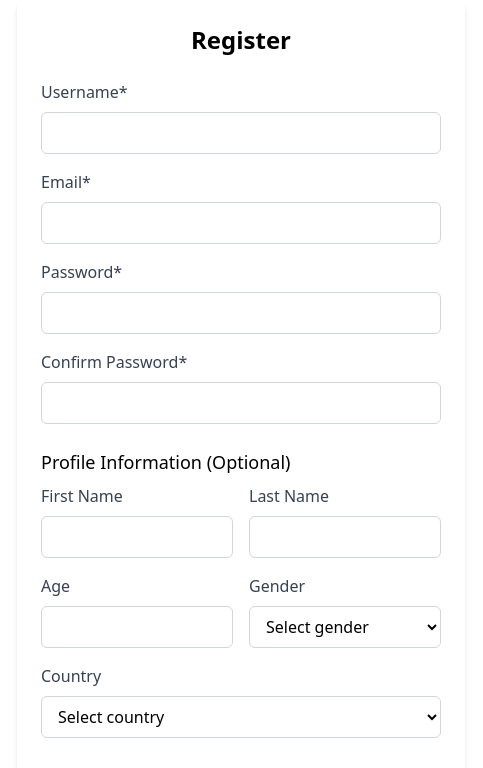
RegisterForm › shows validation error when passwords do not match
Note: Fill in the form with mismatched passwords
Type "testuser" into the field labelled "Username*".
click(241, 133); type("testuser")  # box [41,112,441,154]
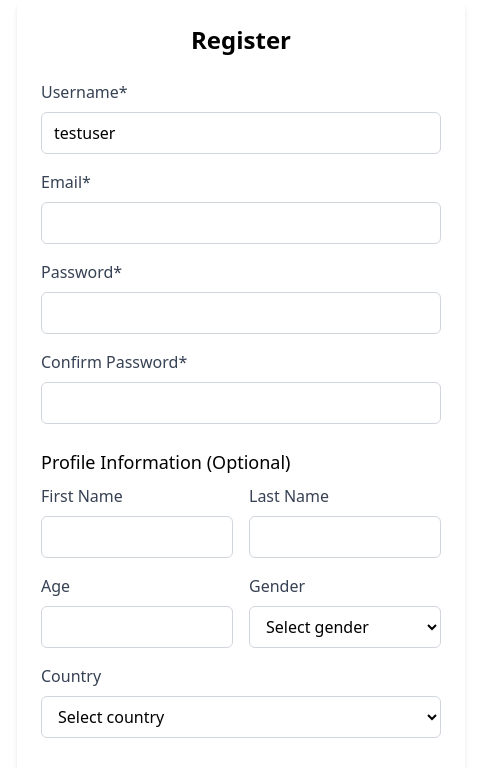
Type "test@example.com" into the field labelled "Email*".
click(241, 223); type("test@example.com")  # box [41,202,441,244]
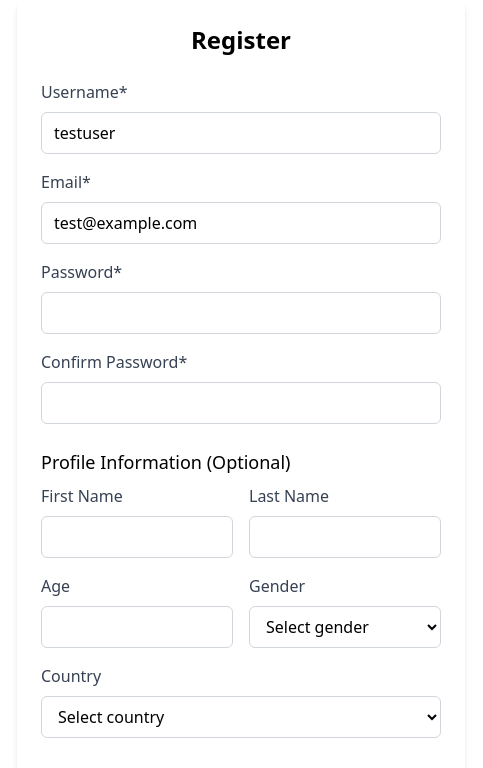
Type "password123" into the password field labelled "Password*".
click(241, 313); type("password123")  # box [41,292,441,334]
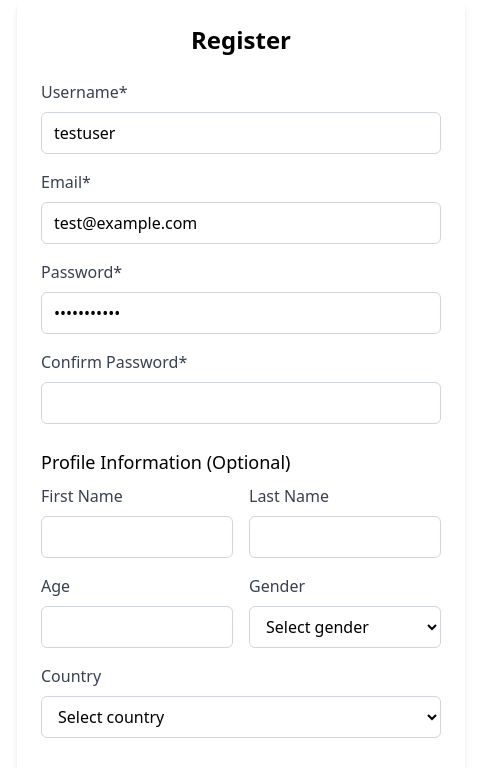
Type "password456" into the password field labelled "Confirm Password*".
click(241, 403); type("password456")  # box [41,382,441,424]
(page scrolled)
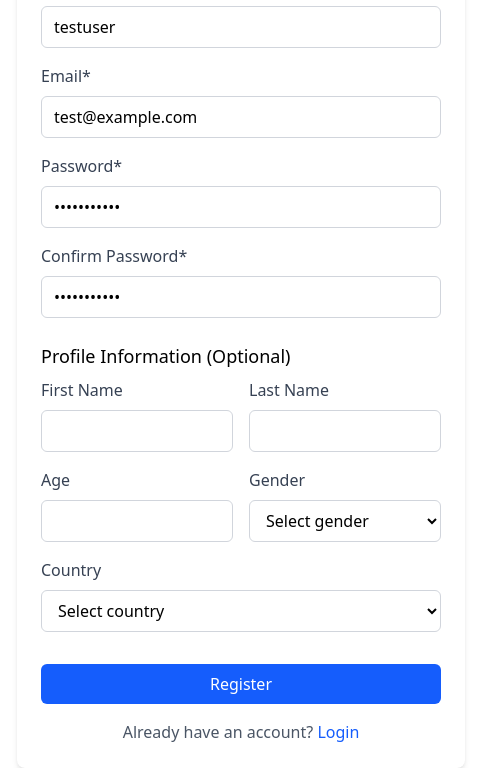
Note: Submit the form
Click the button "Register".
click(241, 684)  # box [41,664,441,704]
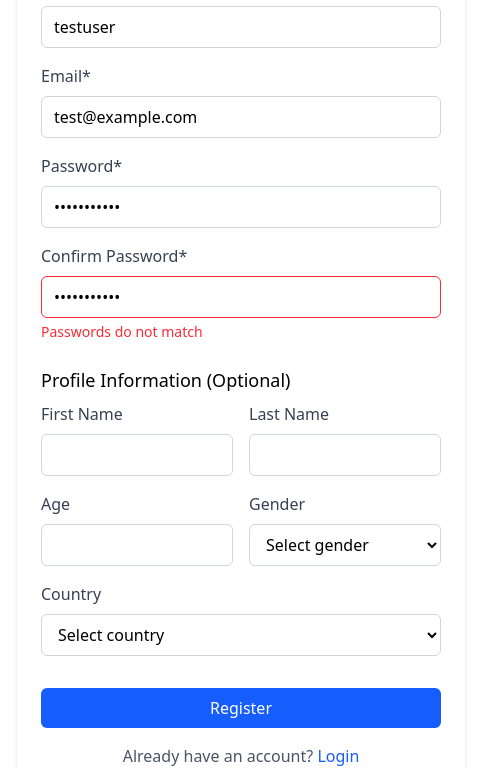
expect the text "Passwords do not match" is shown: met, box [41,322,203,341]
